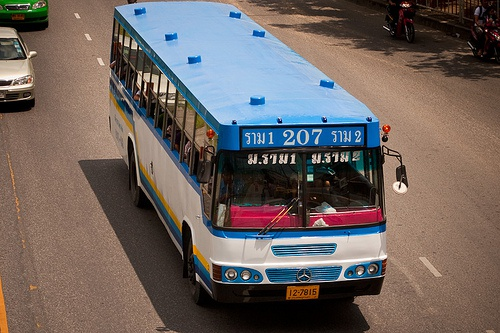non-vehicle: (466, 14, 499, 65), (382, 0, 417, 42)
